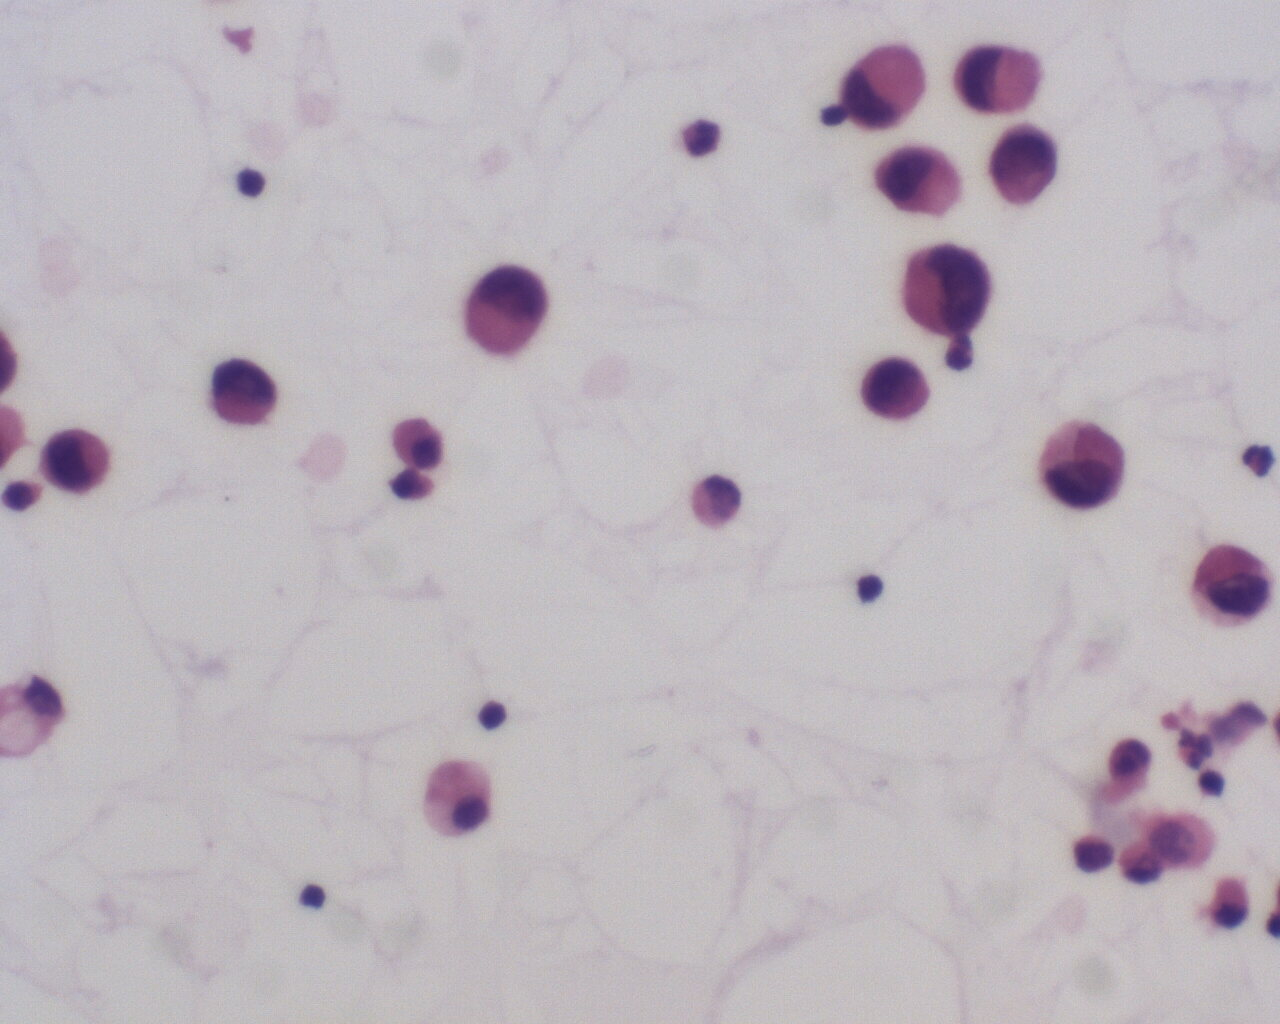ab: (1030, 412, 1136, 516), (895, 240, 1001, 335), (461, 259, 556, 364), (1185, 539, 1274, 631), (991, 120, 1061, 206), (37, 421, 115, 497), (207, 358, 287, 430), (854, 353, 932, 422)
histo: (836, 38, 936, 127)
lymph: (850, 569, 897, 610), (470, 696, 510, 738), (232, 165, 270, 200)
meso: (418, 757, 501, 842), (392, 414, 445, 474)
neutro: (1238, 437, 1276, 479)
